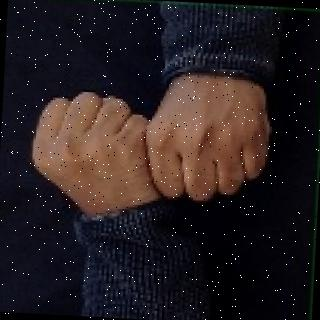G: (20, 72, 271, 226)
